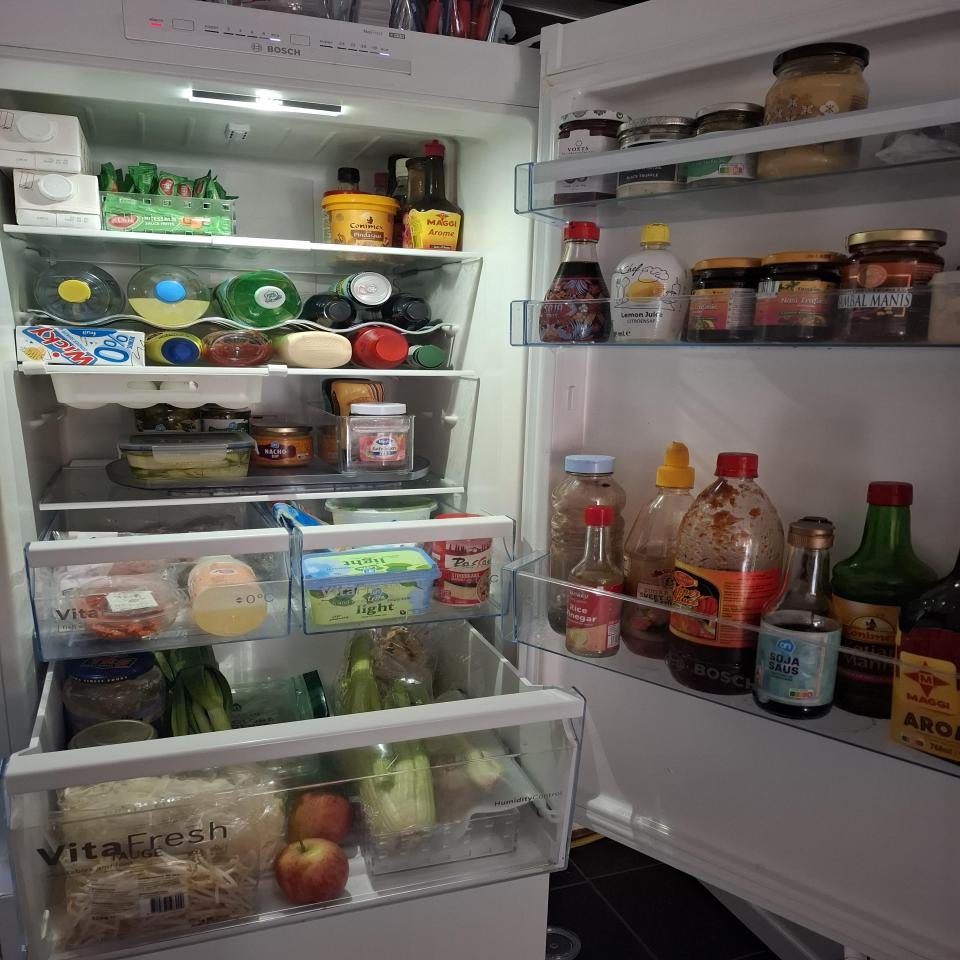Manzana: (276, 839, 350, 904), (288, 791, 352, 843)
ketchup: (202, 330, 273, 367)
